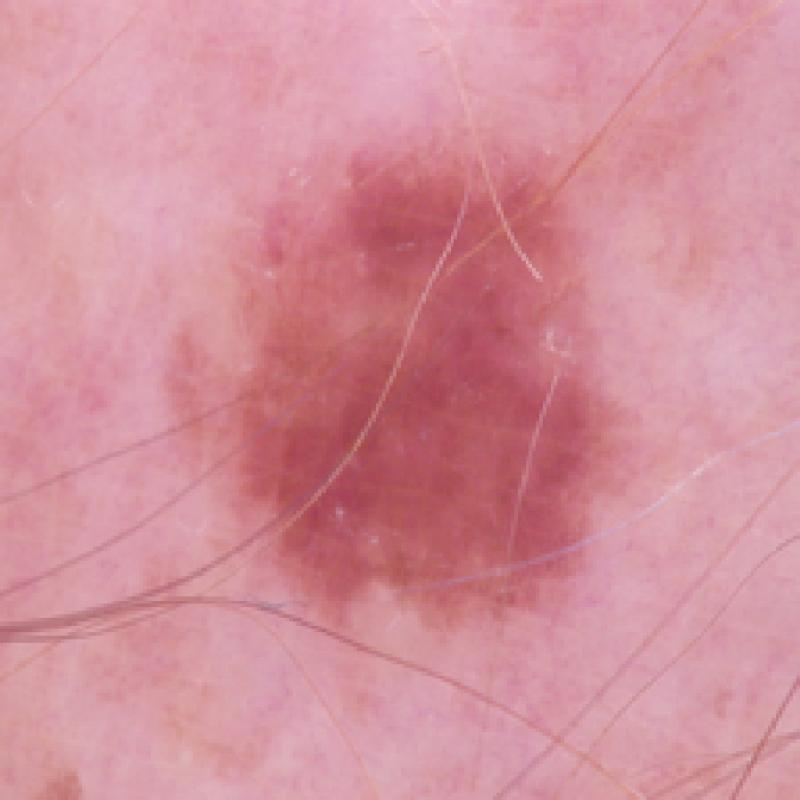benign: (177, 105, 663, 646)
